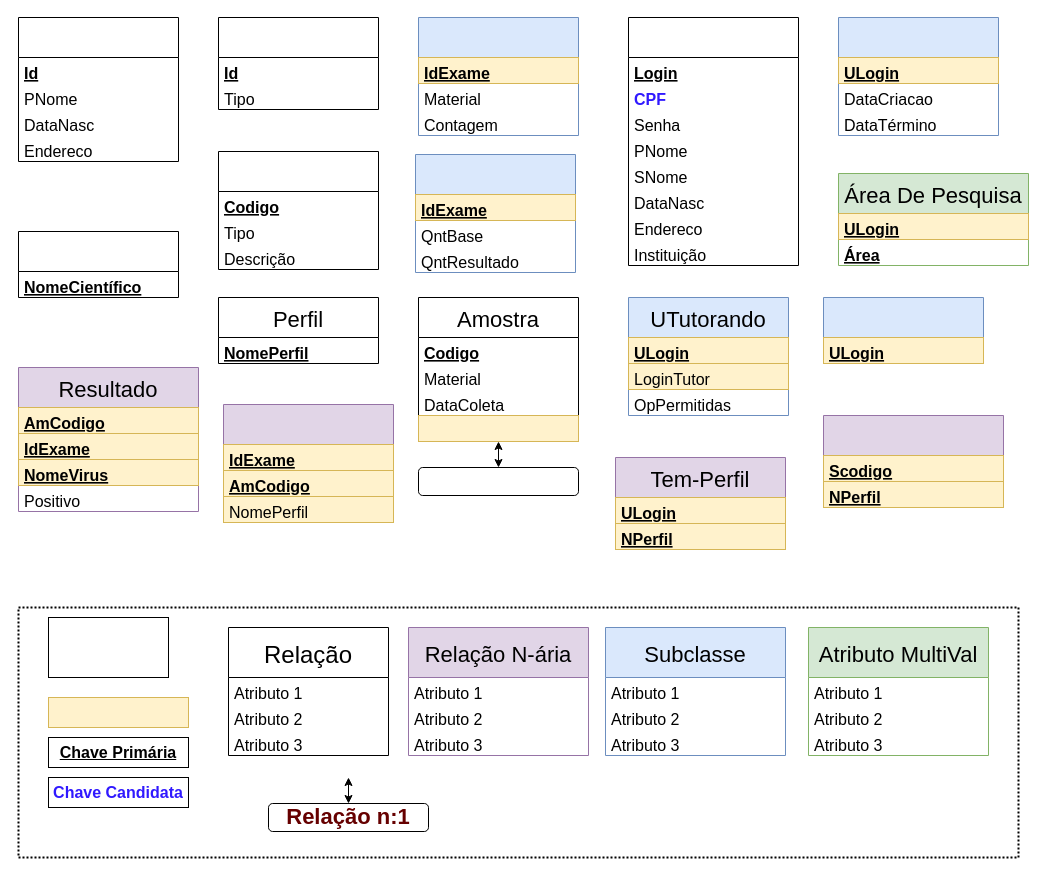
This 1046x876 diagram has some shape labels left out. Here are the shapes that lost their labels. From the top down, the box of each, then its label:
(218, 16, 378, 110): Exame
(418, 16, 578, 136): EAntiCorpos
(838, 16, 998, 136): UEventual
(18, 16, 178, 162): Paciente
(628, 16, 798, 266): Usuário
(218, 150, 378, 270): Serviço
(414, 154, 576, 272): EPCR
(18, 230, 178, 298): Vírus
(822, 296, 984, 364): UTutor
(418, 414, 578, 442): IdPac
(222, 404, 394, 522): Solicita
(418, 466, 578, 496): Analisado Em
(822, 414, 1004, 508): Pode-Realizar
(48, 616, 168, 678): Legenda:
(48, 696, 188, 728): Chave Estrangeira
